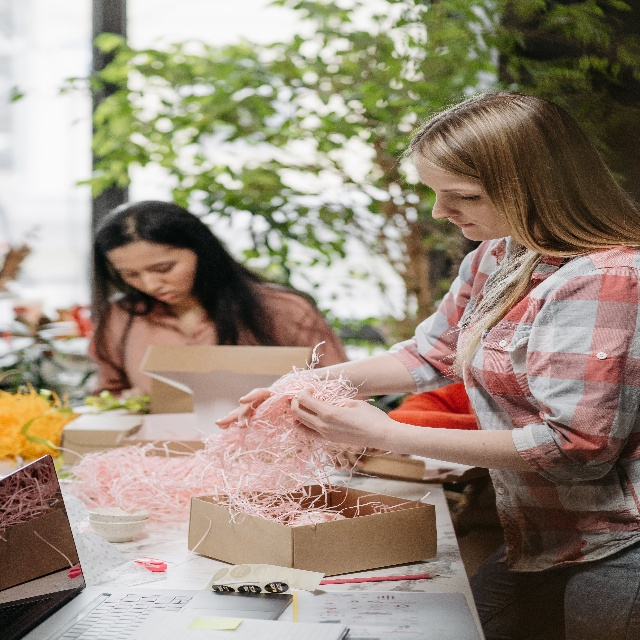Sin_guantes: (289, 381, 389, 463), (216, 385, 276, 432)
